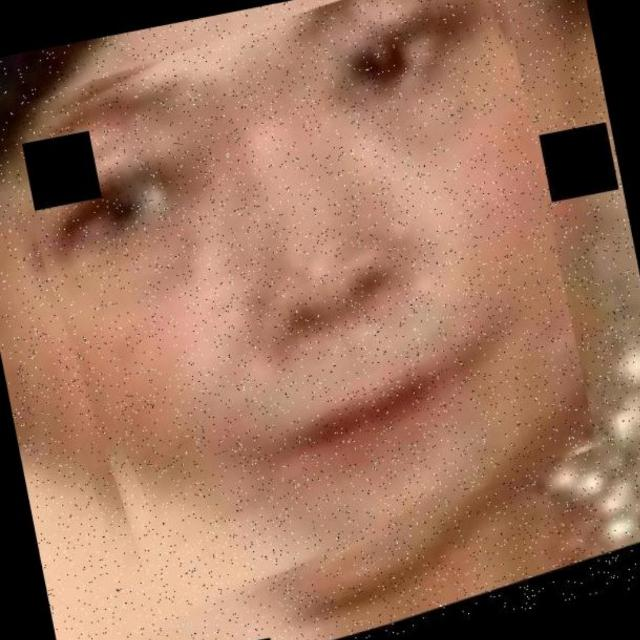Angry: (40, 17, 640, 621)
